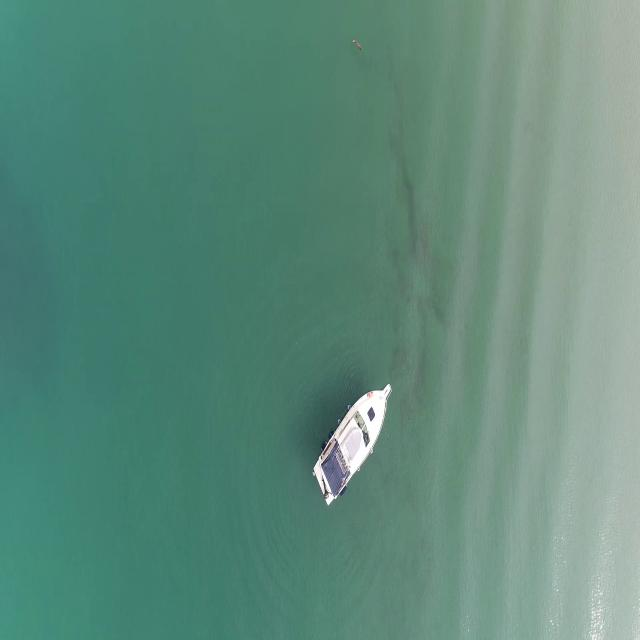boat: (315, 380, 391, 512)
wood: (352, 38, 364, 52)
